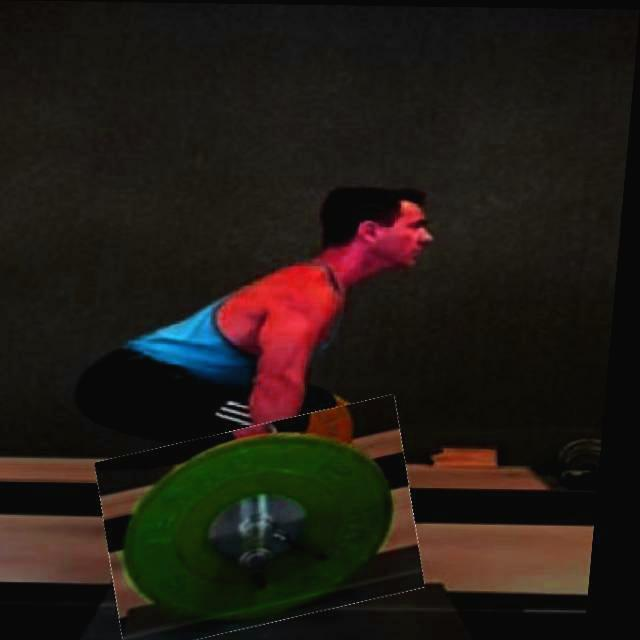barbell: (101, 407, 439, 640)
